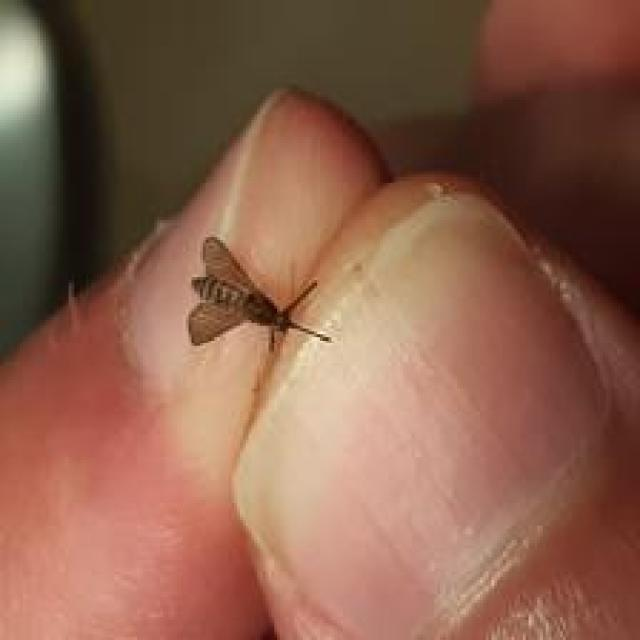Culex: (184, 234, 333, 354)
